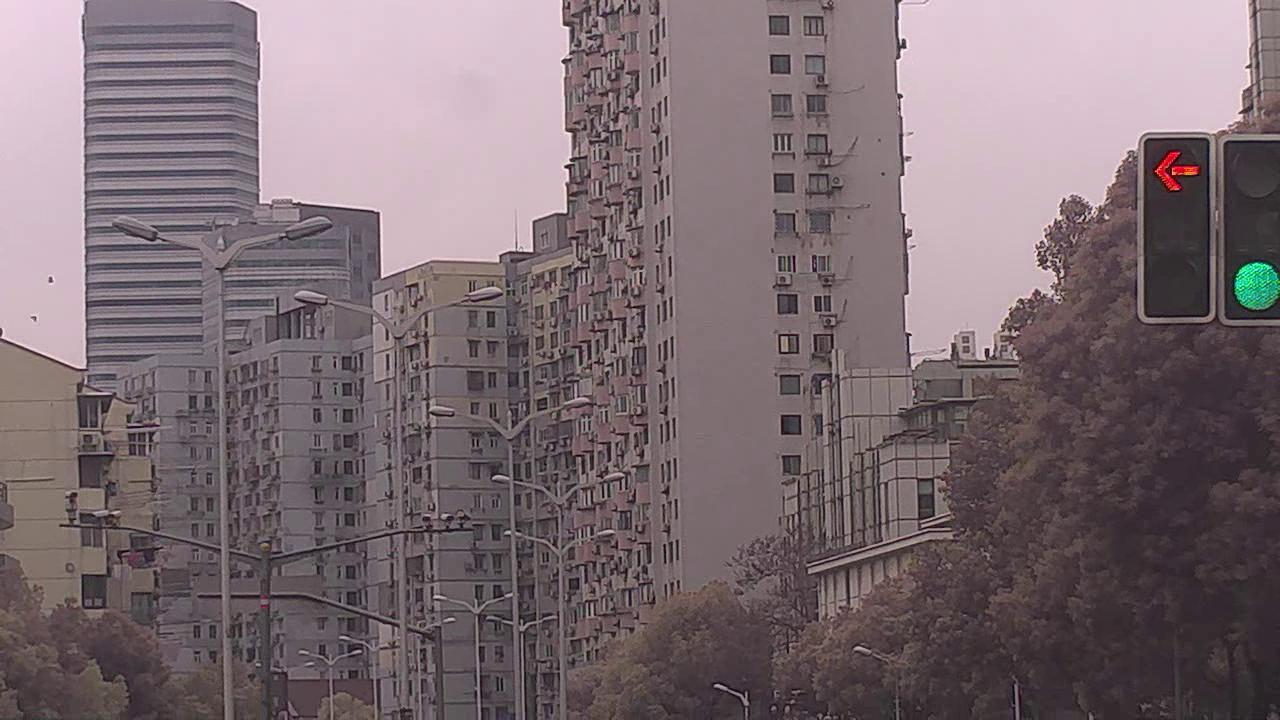traffic_light: (1142, 138, 1219, 324), (1224, 134, 1278, 323)
